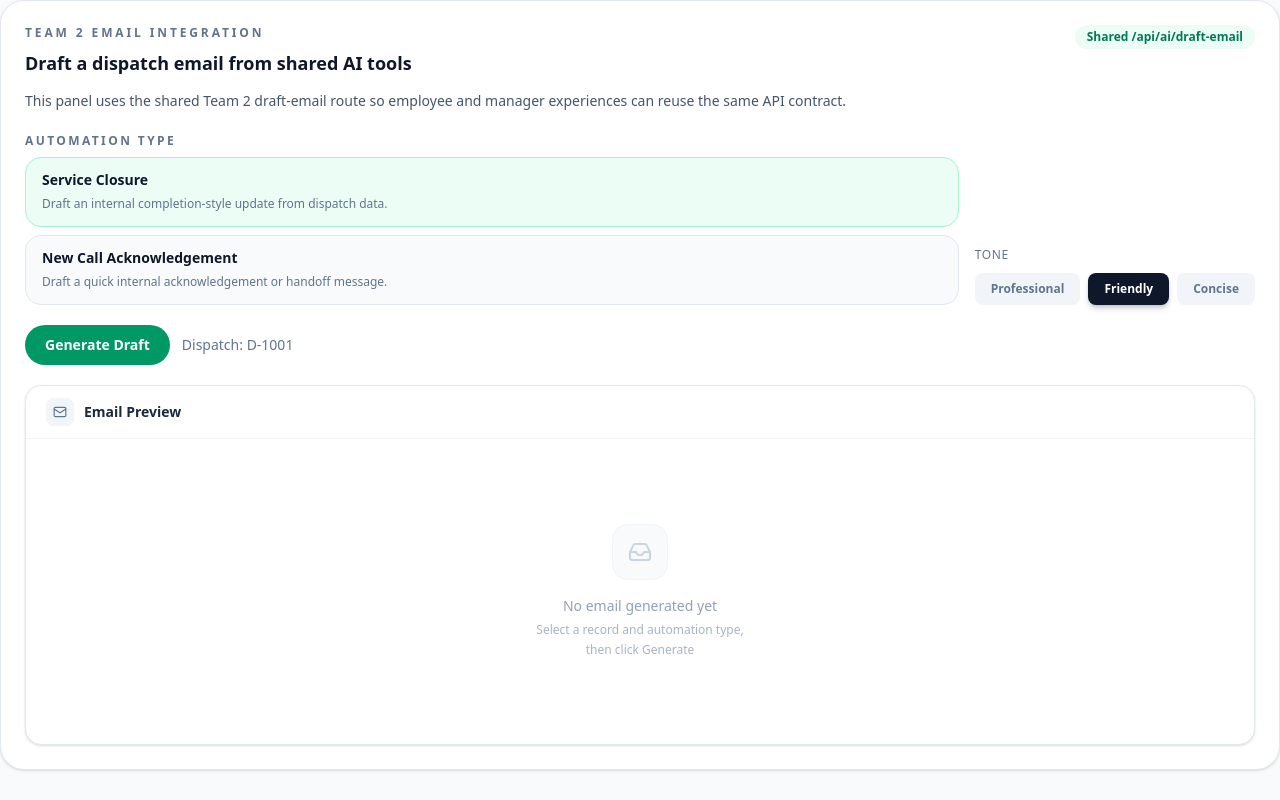
Test case: EmployeeEmailAssistant › posts shared payload to /api/ai/draft-email?format=json and renders returned subject/body
The width and height of the screenshot is (1280, 800).
Click the button "Generate Draft".
click(97, 345)  # box [25,325,170,365]
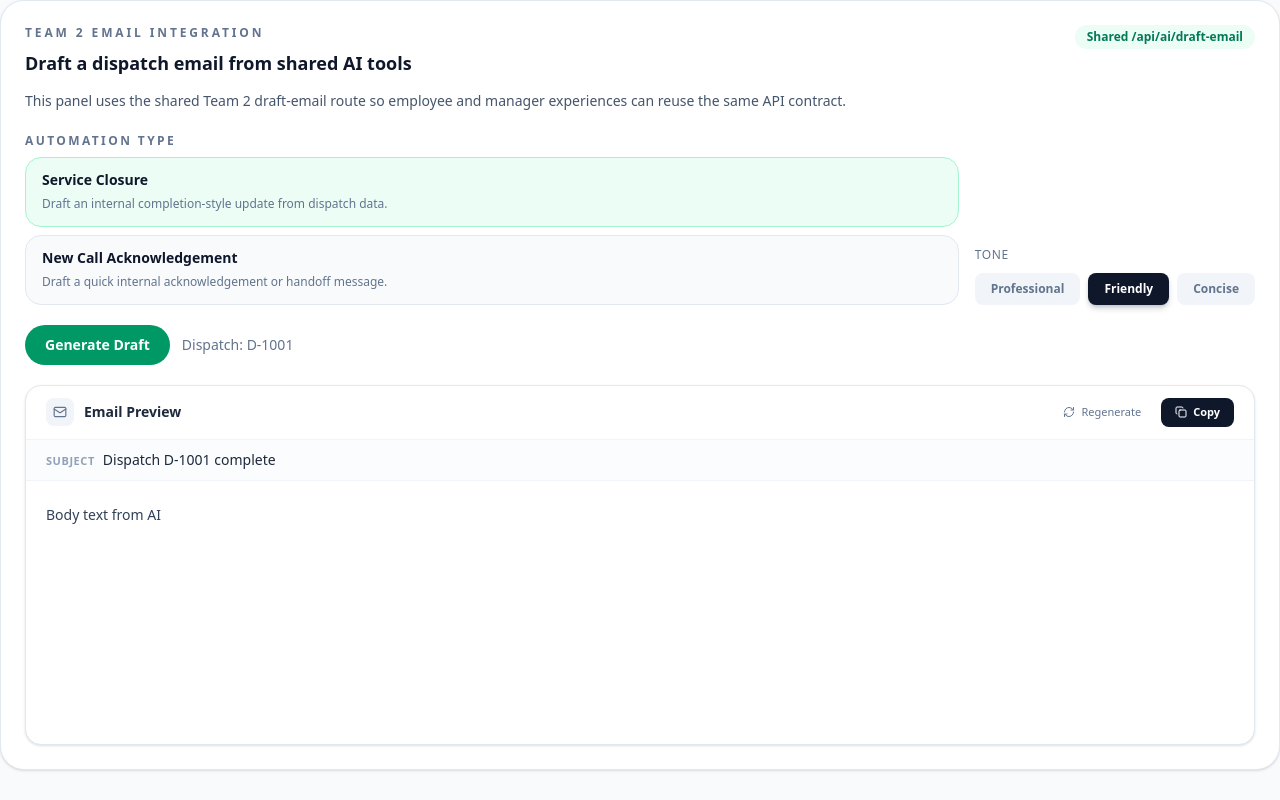
Check: the text "Dispatch D-1001 complete" is shown, box [103,450,276,470]
Check: the text box "Body text from AI" is shown, box [46,500,1234,724]
